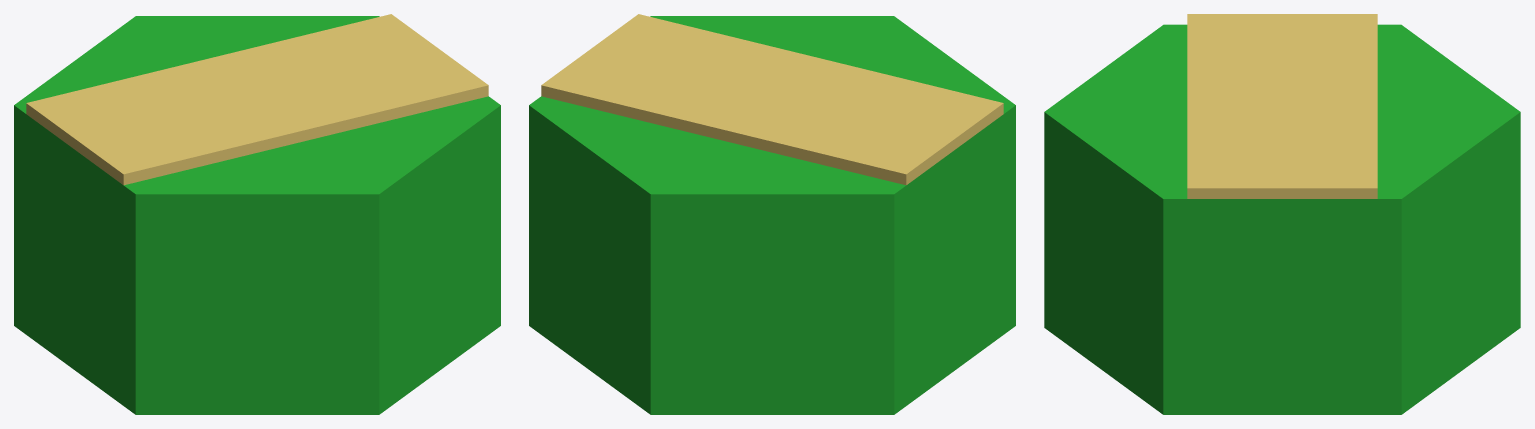
Rendered from path-straight_corner.glb.
3 renders of one model, left to right at view 1: azimuth 30°, elevation 25°; view 2: azimuth 150°, elevation 25°; view 3: azimuth 270°, elevation 25°, orthographic. The views are drawn at different scales.
Visible parts, largest first — view 1: path-straight_corner; view 2: path-straight_corner; view 3: path-straight_corner.
Part boxes in pixels (bbox=[...]): path-straight_corner: bbox=[14, 14, 500, 414]; path-straight_corner: bbox=[529, 14, 1015, 414]; path-straight_corner: bbox=[1044, 14, 1520, 414].
Size of the model in its own units: 0.866 by 0.525 by 1.
